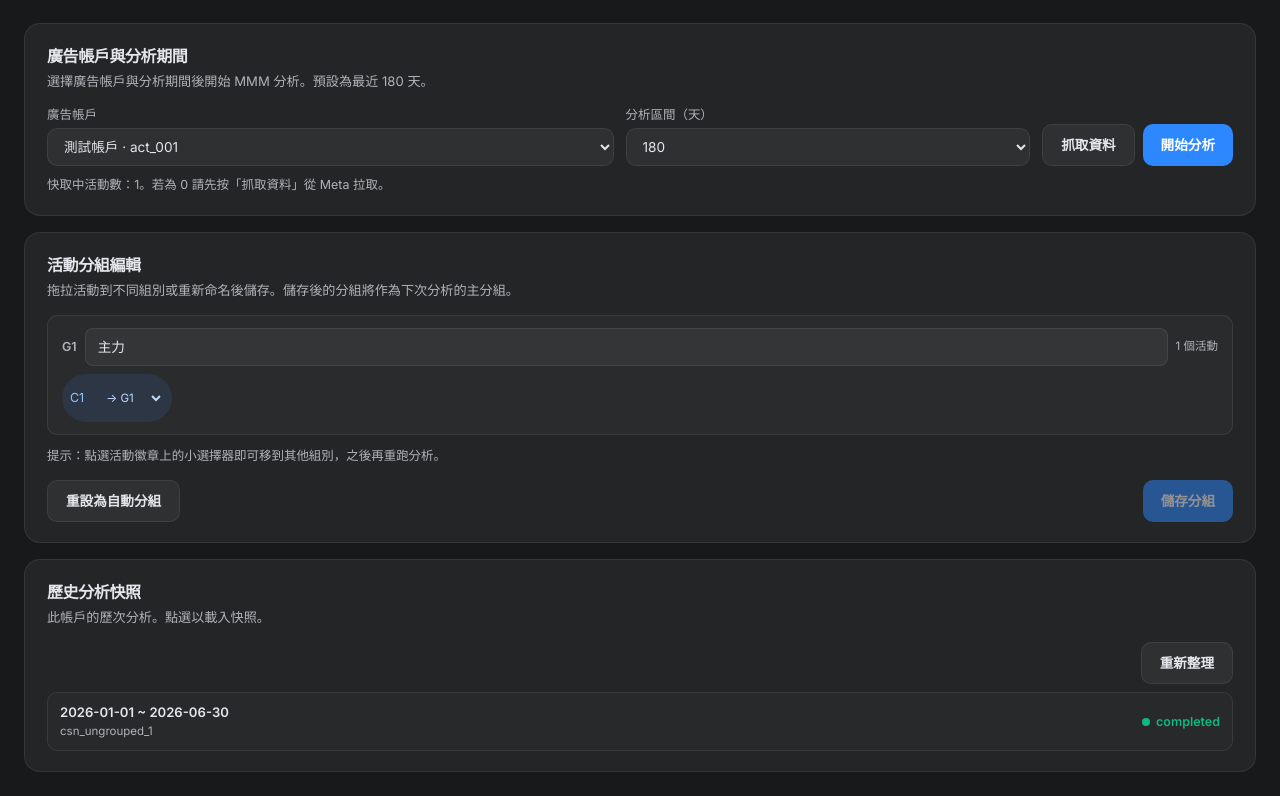
Test: ContributionAnalysis › shows ungrouped spend share and its warning in the diagnostics card (docs/27 任務 5.3)
(page scrolled)
Click the button "csn_ungrouped_1": (97, 712) [47,692,1233,751]
(page scrolled)
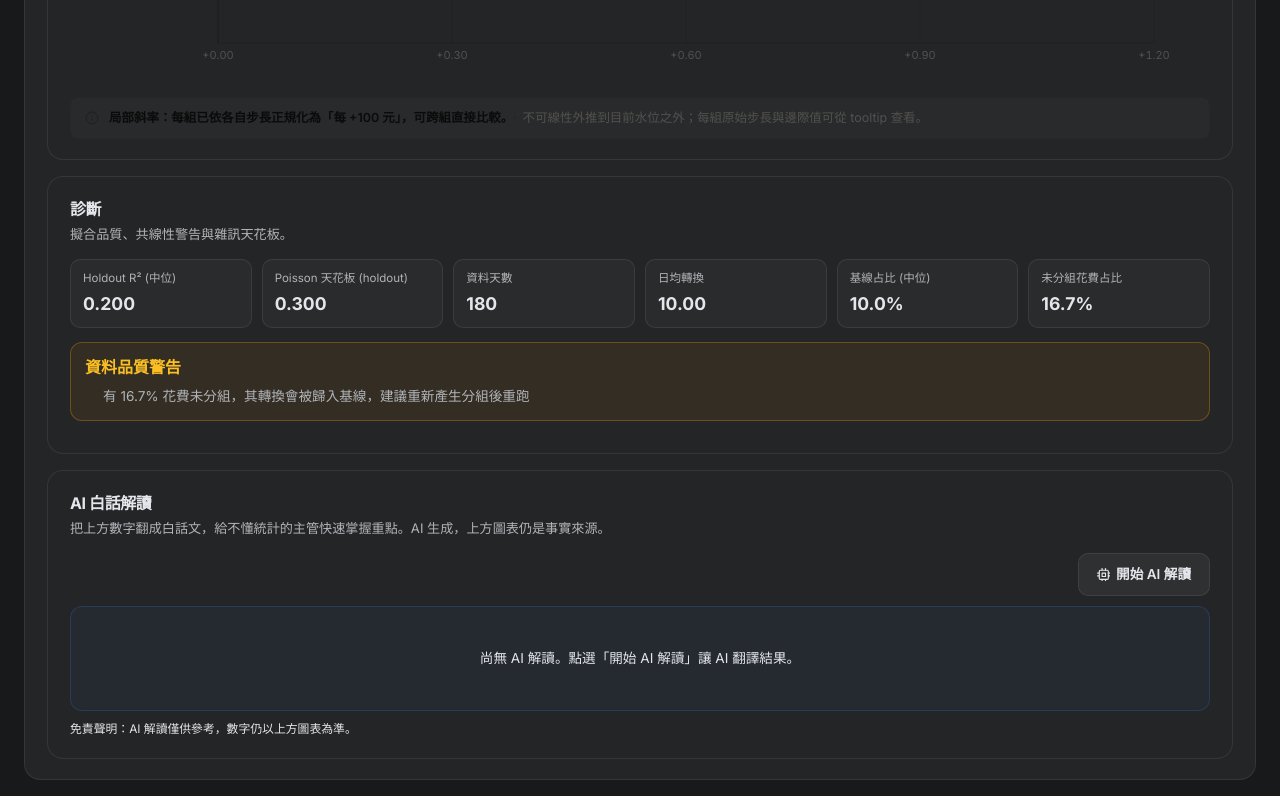
Check: the text "16.7%" is shown, box [1041,293,1093,314]
Check: the list item "有 16.7% 花費未分組，其轉換會被歸入基線，建議重新產生分組後重跑" is shown, box [103,388,530,404]
